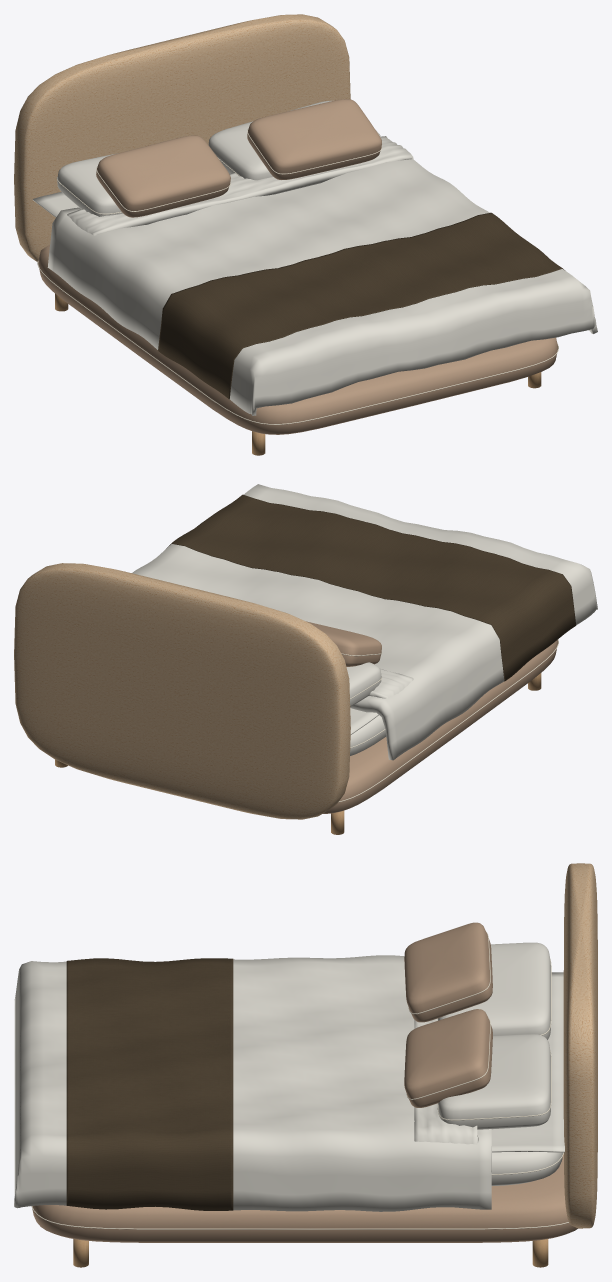
Rendered from scandinavian.bed.gltf.
3 views of the same model, one above another, from view 1: azimuth 30°, elevation 25°; view 2: azimuth 150°, elevation 25°; view 3: azimuth 270°, elevation 25° (orthographic). The views are drawn at different scales.
Visible parts, largest first — view 1: scandinavian.bed.foot; view 2: scandinavian.bed.foot; view 3: scandinavian.bed.foot.
Boxes of the visible parts, bbox=[...] form: scandinavian.bed.foot: bbox=[14, 14, 597, 455]; scandinavian.bed.foot: bbox=[14, 484, 597, 834]; scandinavian.bed.foot: bbox=[14, 863, 597, 1267].
Size of the model in its own units: 1.77 by 1.09 by 2.22.
6 materials, 4 textured.
